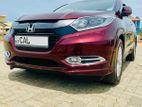car: (5, 1, 137, 84)
